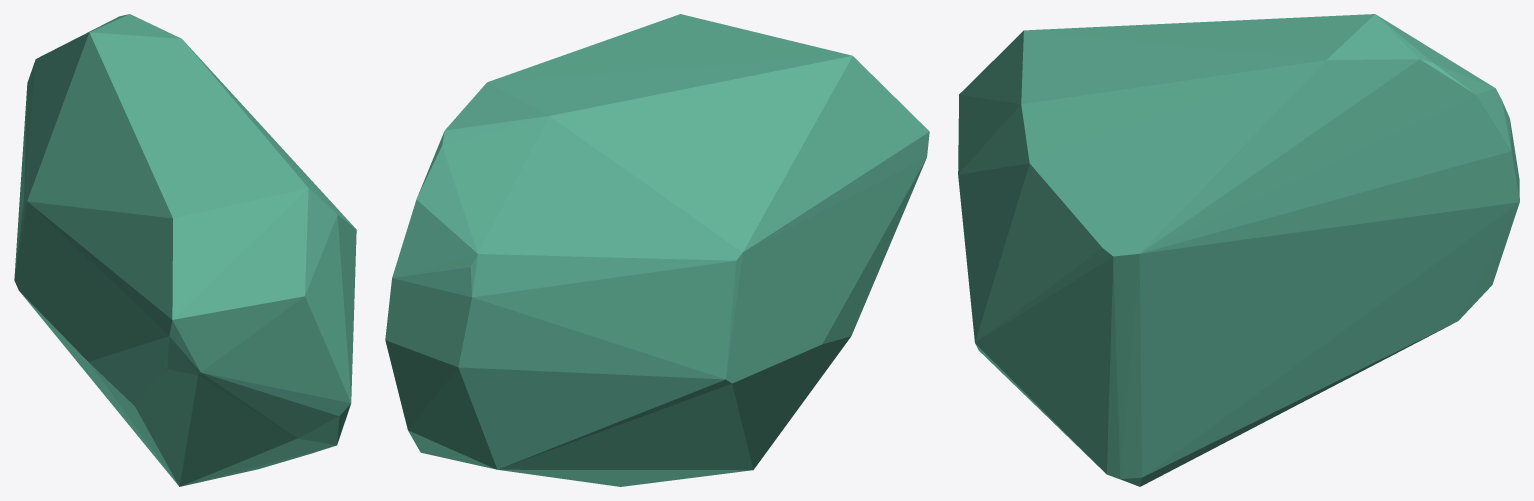
Rendered from steeringSystem_power_steering_pump_c01.glb.
3 renders of one model, left to right at view 1: azimuth 30°, elevation 25°; view 2: azimuth 150°, elevation 25°; view 3: azimuth 270°, elevation 25°, orthographic. The views are drawn at different scales.
Parts seen in each view (by area): view 1: geometry_0; view 2: geometry_0; view 3: geometry_0.
Boxes of the visible parts, x1,y1,x2,y2 form: geometry_0: (14,14,356,486); geometry_0: (385,14,929,486); geometry_0: (958,14,1519,486).
Bounding box in the file's own units: 0.2771 × 0.3905 × 0.4792.
